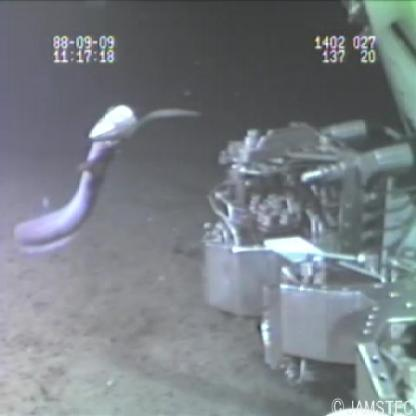Bio: (8, 100, 206, 259)
Rov: (196, 113, 416, 414)
